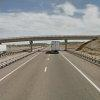Bridge: (6, 25, 92, 48)
